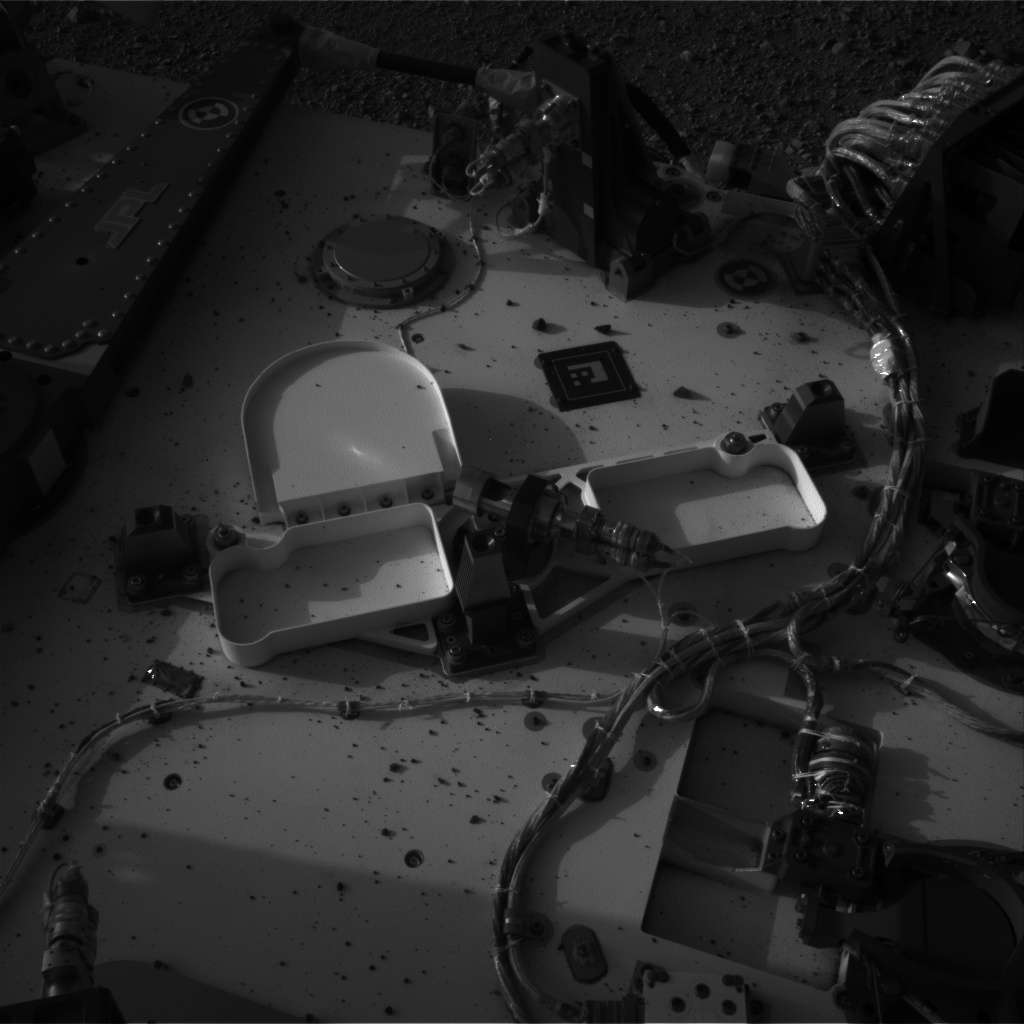soil: (773, 31, 855, 85)
